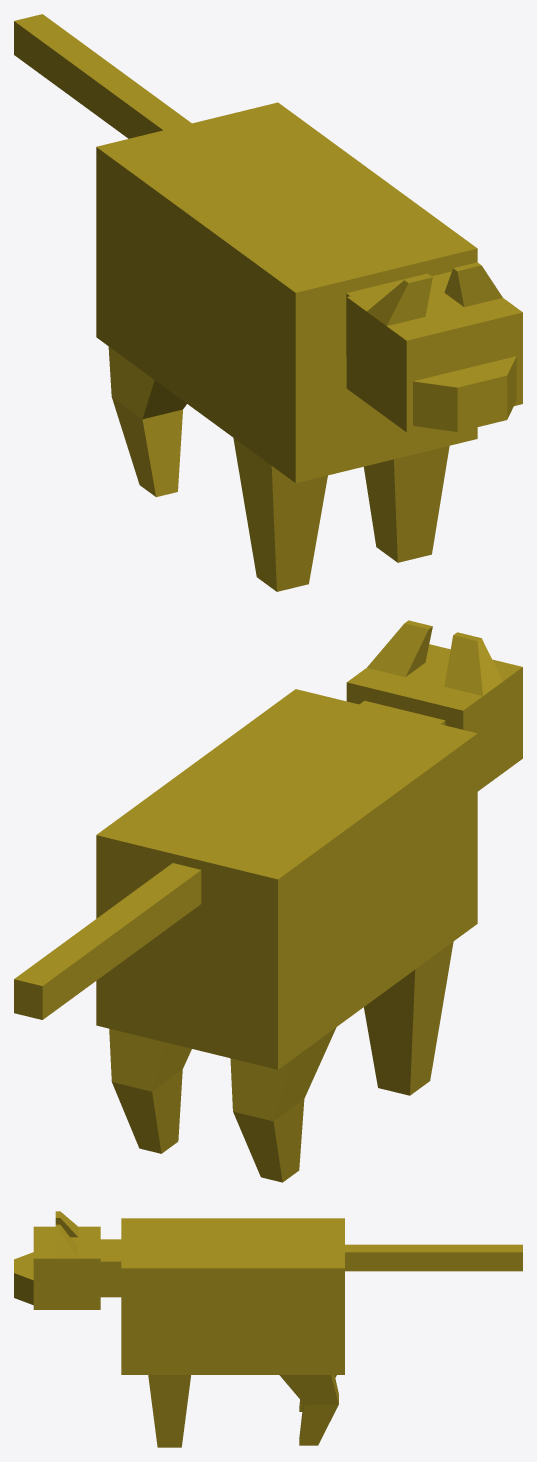
File: cat_0.glb
3 views of the same model, one above another, from view 1: azimuth 30°, elevation 25°; view 2: azimuth 150°, elevation 25°; view 3: azimuth 270°, elevation 25° (orthographic). The views are drawn at different scales.
Visible parts, largest first — view 1: Cube; view 2: Cube; view 3: Cube.
Boxes of the visible parts, x1,y1,x2,y2 form: Cube: [14, 14, 522, 591]; Cube: [14, 620, 522, 1182]; Cube: [14, 1211, 522, 1447].
Bounding box in the file's own units: 0.25 × 0.4806 × 1.08.
